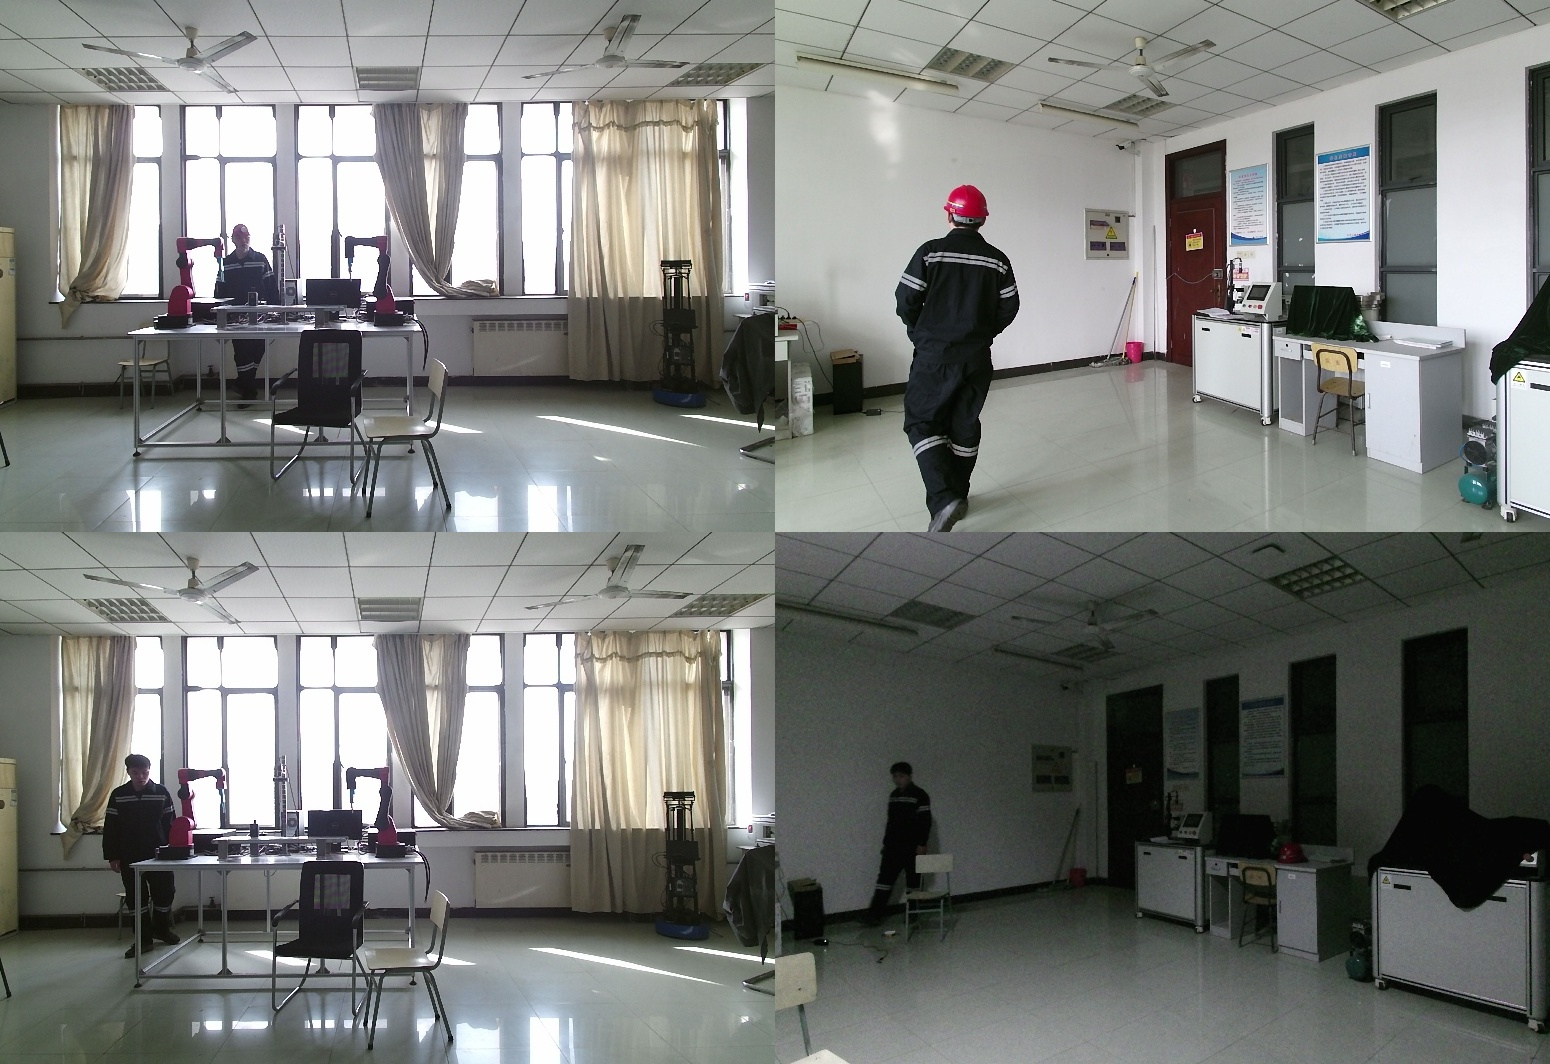person: (888, 182, 1024, 532), (96, 754, 185, 957), (213, 224, 279, 410), (881, 763, 937, 923)
